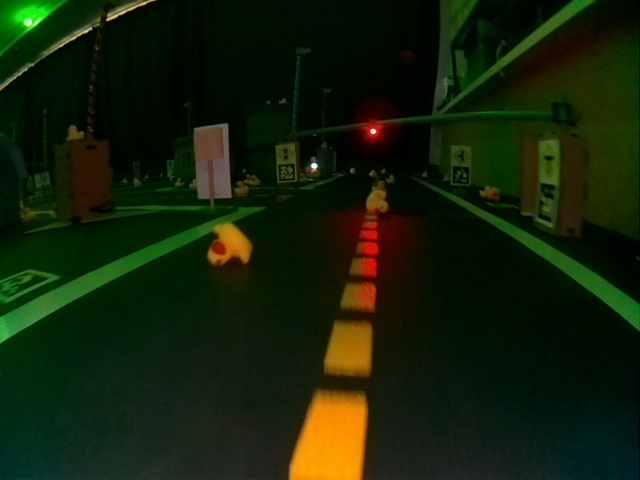Duckie: (208, 224, 252, 266), (368, 192, 387, 212), (67, 125, 83, 141), (234, 182, 248, 195), (479, 185, 490, 195), (491, 189, 499, 199), (24, 207, 32, 217), (250, 178, 260, 184)
Intersection sign: (538, 143, 559, 181), (452, 147, 470, 166)
QR code: (1, 269, 57, 304), (536, 181, 555, 223), (277, 163, 296, 180), (452, 167, 469, 183)
Signal sign: (277, 145, 295, 159)
Traffic light: (366, 119, 378, 136)
